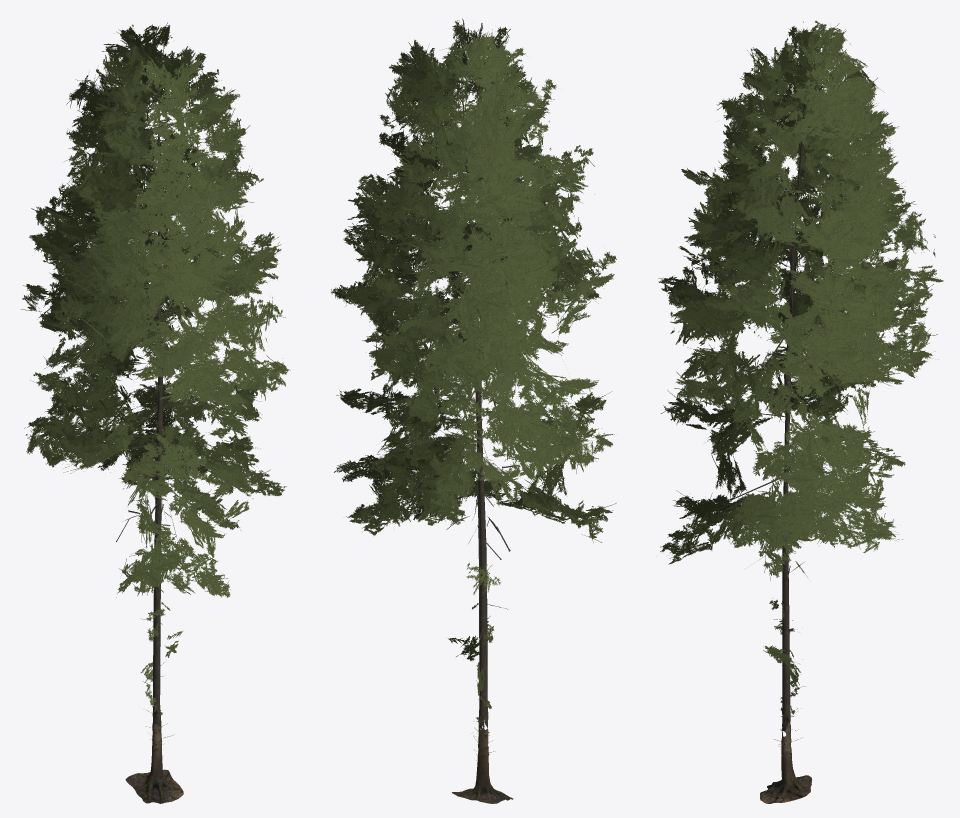
3 renders of one model, left to right at view 1: azimuth 30°, elevation 25°; view 2: azimuth 150°, elevation 25°; view 3: azimuth 270°, elevation 25°, orthographic. The views are drawn at different scales.
Parts seen in each view (by area): view 1: fir_tree_01__a_lod1; view 2: fir_tree_01__a_lod1; view 3: fir_tree_01__a_lod1.
Part boxes in pixels (bbox=[...]): fir_tree_01__a_lod1: bbox=[21, 22, 290, 803]; fir_tree_01__a_lod1: bbox=[331, 18, 616, 803]; fir_tree_01__a_lod1: bbox=[658, 20, 943, 803].
Size of the model in its own units: 6.73 by 19.04 by 6.53.
3 materials, 3 textured.
